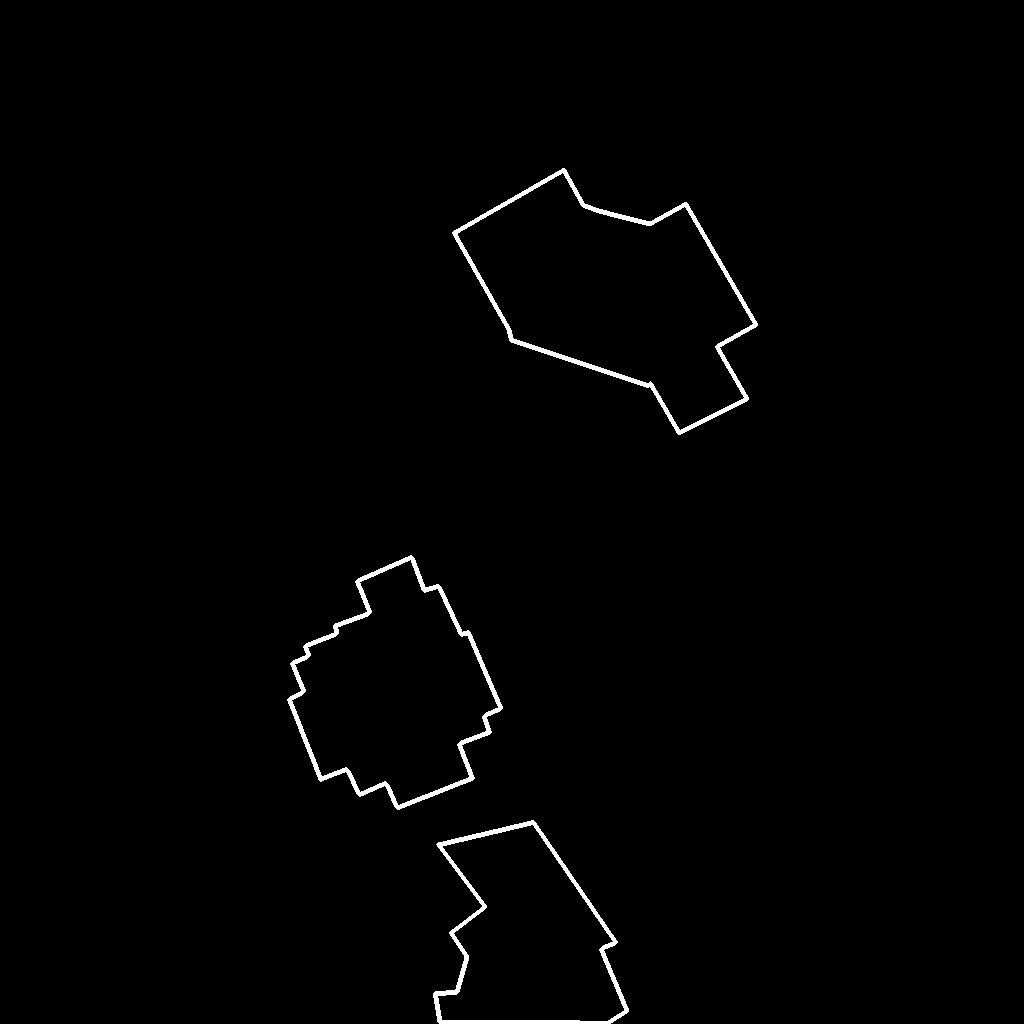building: (454, 170, 757, 434), (289, 557, 502, 809), (435, 821, 628, 1024)
